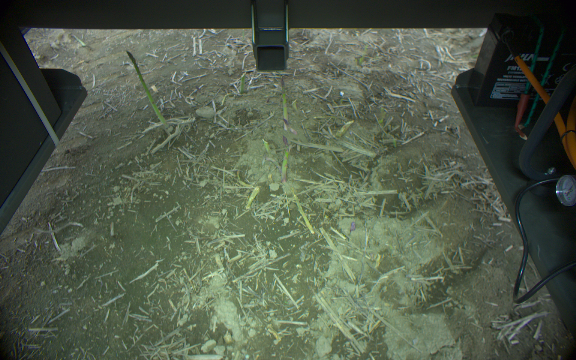aspa: (123, 47, 167, 128), (288, 189, 314, 236), (278, 76, 290, 132), (279, 135, 289, 182)
